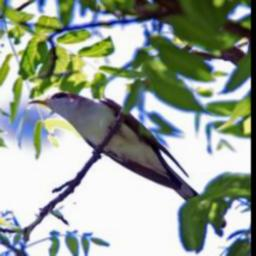Cuckoo: (29, 90, 227, 228)
